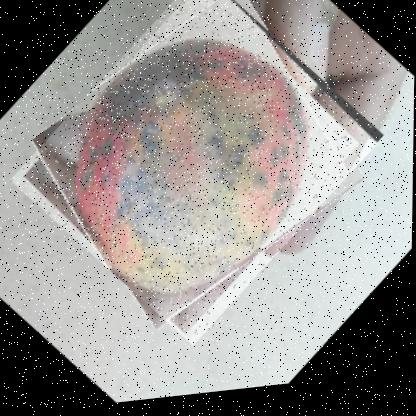pomegranate_rotten: (7, 0, 390, 371)
